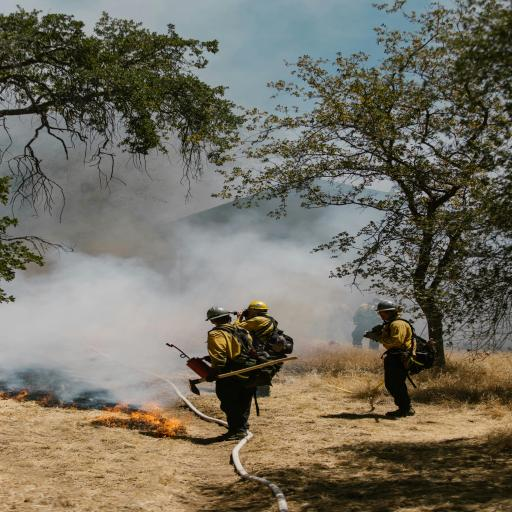wildfire: (0, 158, 512, 476)
